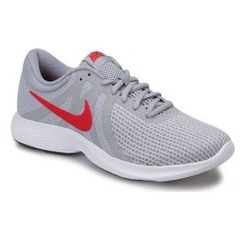nike: (29, 86, 93, 132)
